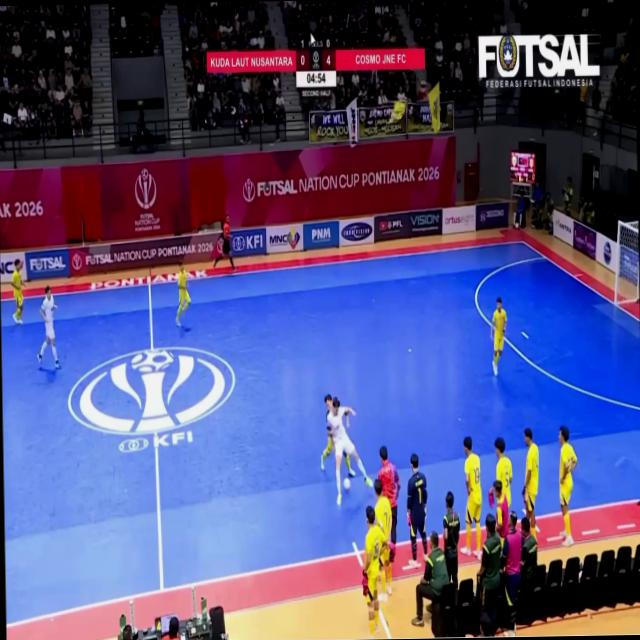keeper: (407, 454, 428, 566)
official: (412, 533, 449, 627), (478, 515, 502, 636), (503, 512, 522, 634), (407, 454, 428, 564), (378, 446, 400, 543), (444, 492, 460, 586), (521, 517, 538, 581)
players: (327, 397, 372, 505), (363, 506, 388, 634), (461, 437, 482, 559), (559, 426, 577, 546), (521, 427, 540, 540), (38, 285, 60, 369), (491, 297, 507, 375), (495, 437, 512, 509), (214, 216, 236, 271), (374, 480, 392, 540), (176, 263, 190, 327), (11, 260, 23, 325), (321, 425, 334, 469)
referee: (214, 216, 236, 271)
